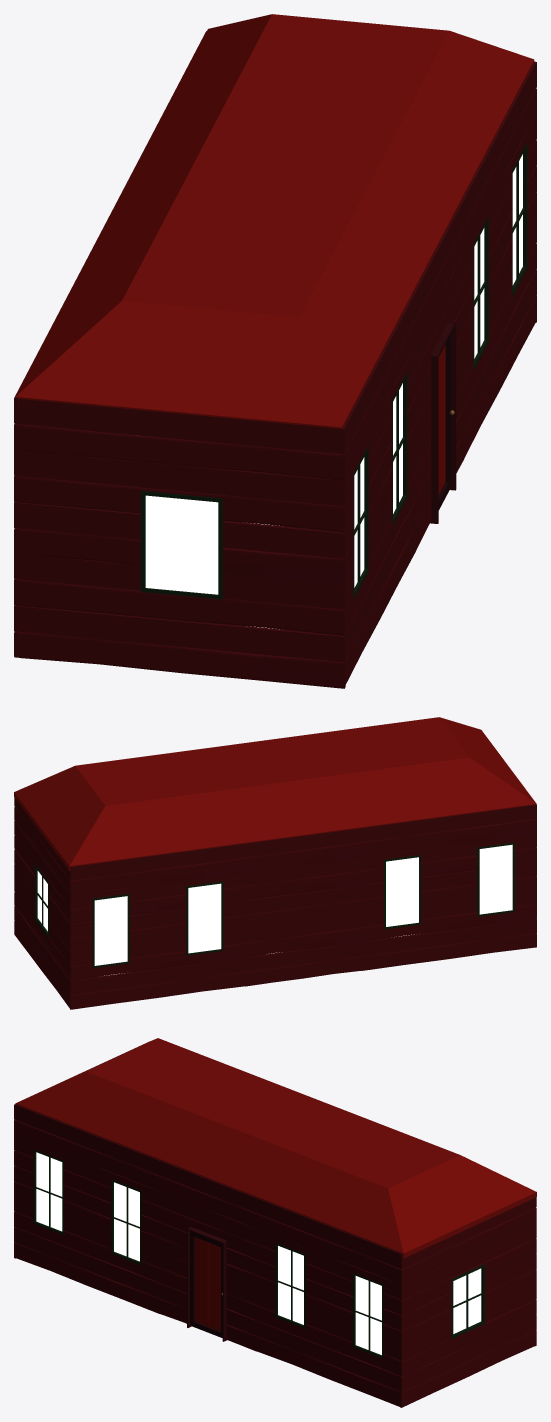
The model's file is d2h_house1.fbx.
3 views of the same model, one above another, from view 1: azimuth 30°, elevation 25°; view 2: azimuth 150°, elevation 25°; view 3: azimuth 270°, elevation 25° (orthographic). The views are drawn at different scales.
Visible parts, largest first — view 1: h1; view 2: h1; view 3: h1.
Part boxes in pixels (x1,y1,x2,y2): h1: [14, 14, 536, 688]; h1: [14, 717, 536, 1009]; h1: [14, 1038, 536, 1407].
Size of the model in its own units: 58.17 by 24.49 by 60.57.
